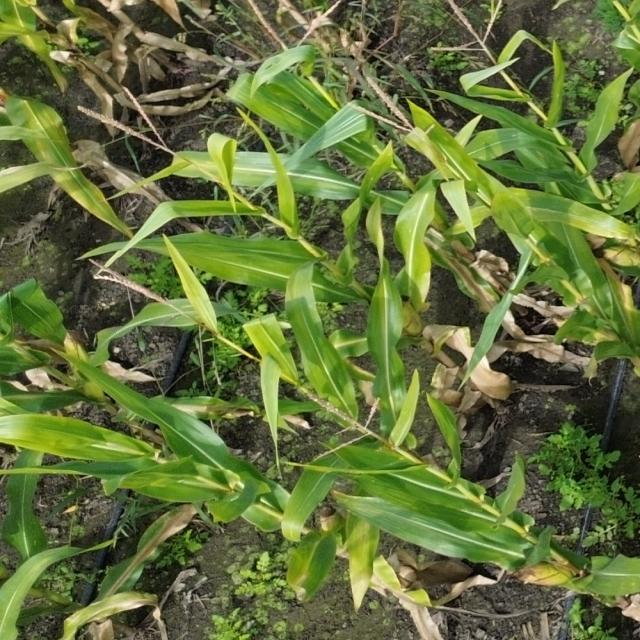gray-leaf-spot: (536, 196, 640, 252)
northern-leaf-blight: (13, 107, 123, 230), (340, 504, 398, 592), (153, 394, 263, 436)
